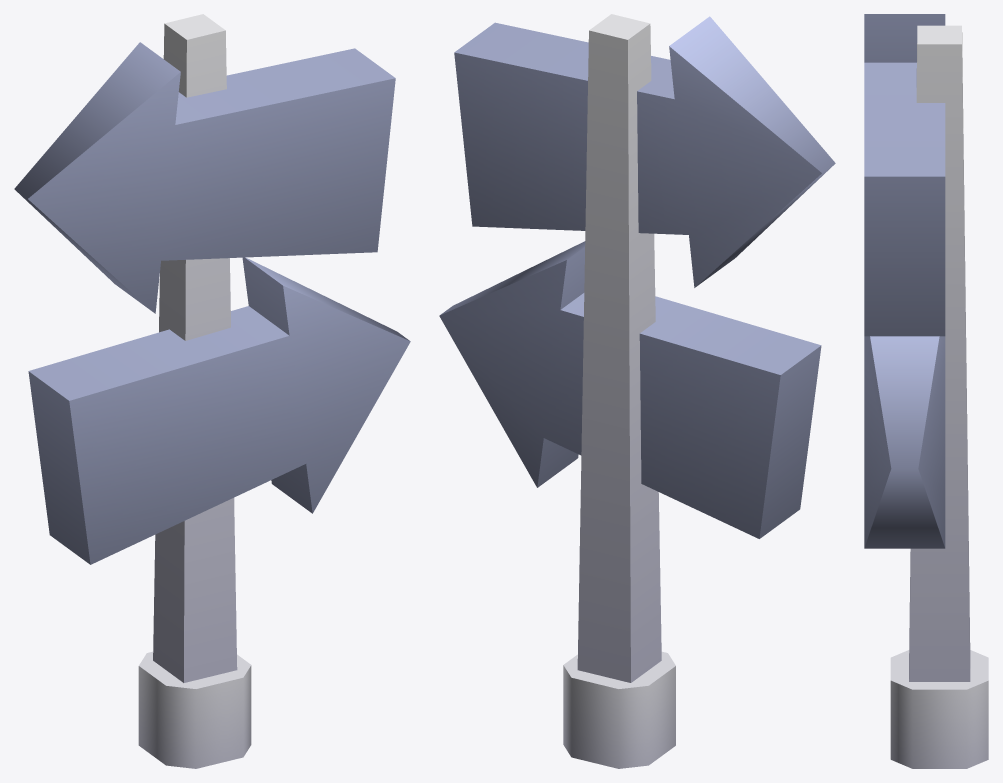
Rendered from arrows.glb.
3 renders of one model, left to right at view 1: azimuth 30°, elevation 25°; view 2: azimuth 150°, elevation 25°; view 3: azimuth 270°, elevation 25°, orthographic.
Parts seen in each view (by area): view 1: arrows; view 2: arrows; view 3: arrows.
Part boxes in pixels (x1,y1,x2,y2): arrows: (14, 14, 410, 768); arrows: (439, 14, 835, 768); arrows: (864, 14, 988, 768).
Size of the model in its own units: 0.5023 by 0.9 by 0.1423.
